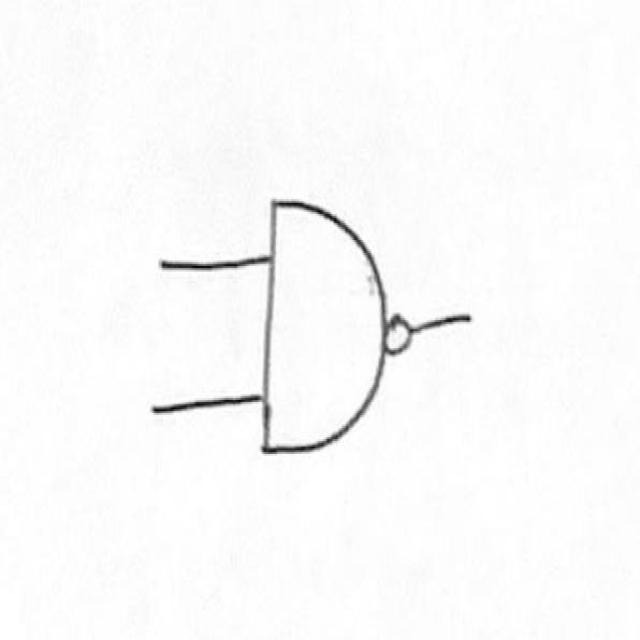NAND: (253, 166, 430, 509)
